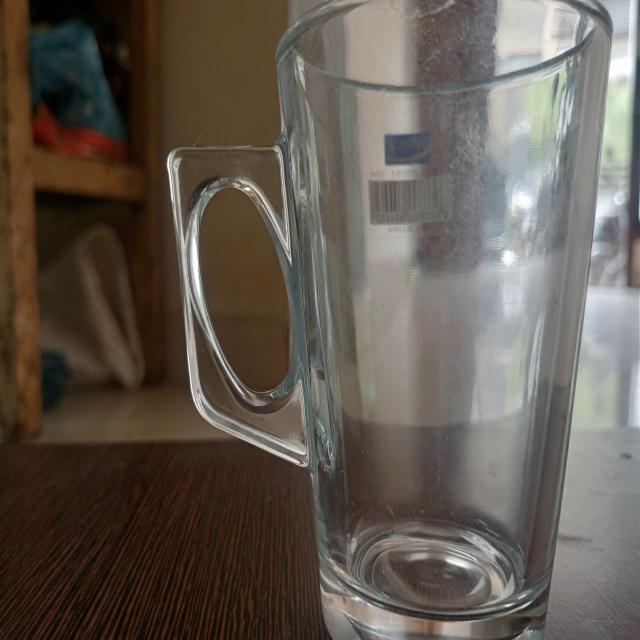glass-VX4N: (166, 0, 614, 640)
